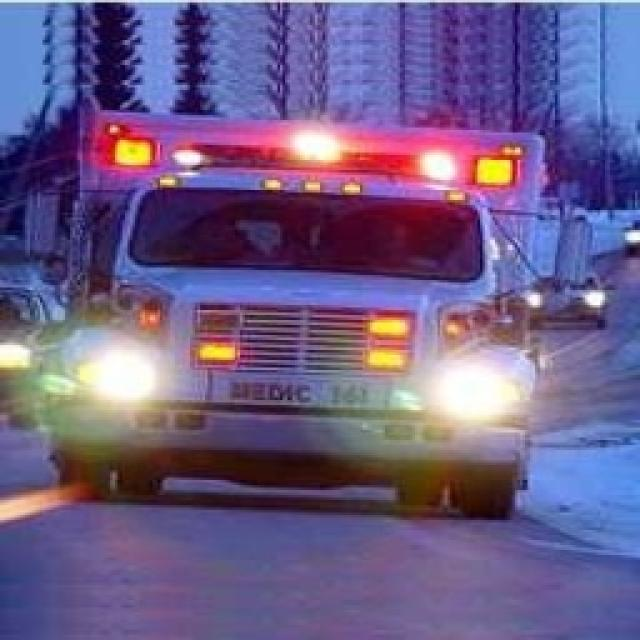emergency-vehicle: (39, 108, 546, 532)
